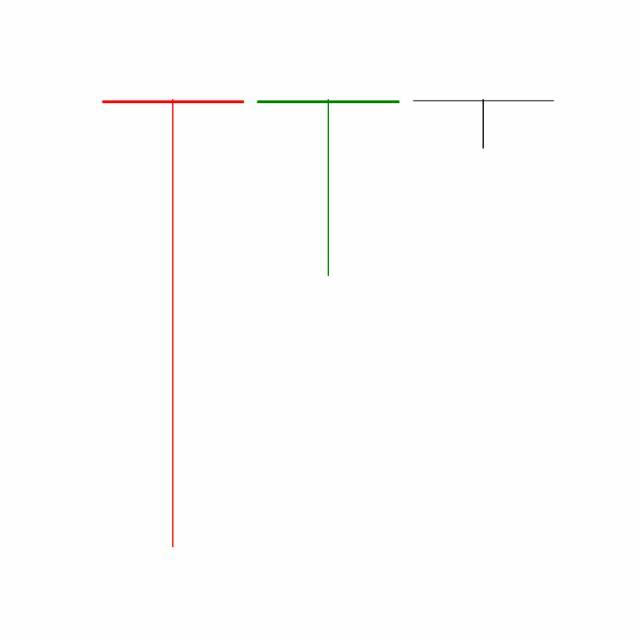Dragonfly Doji: (406, 98, 562, 150)
